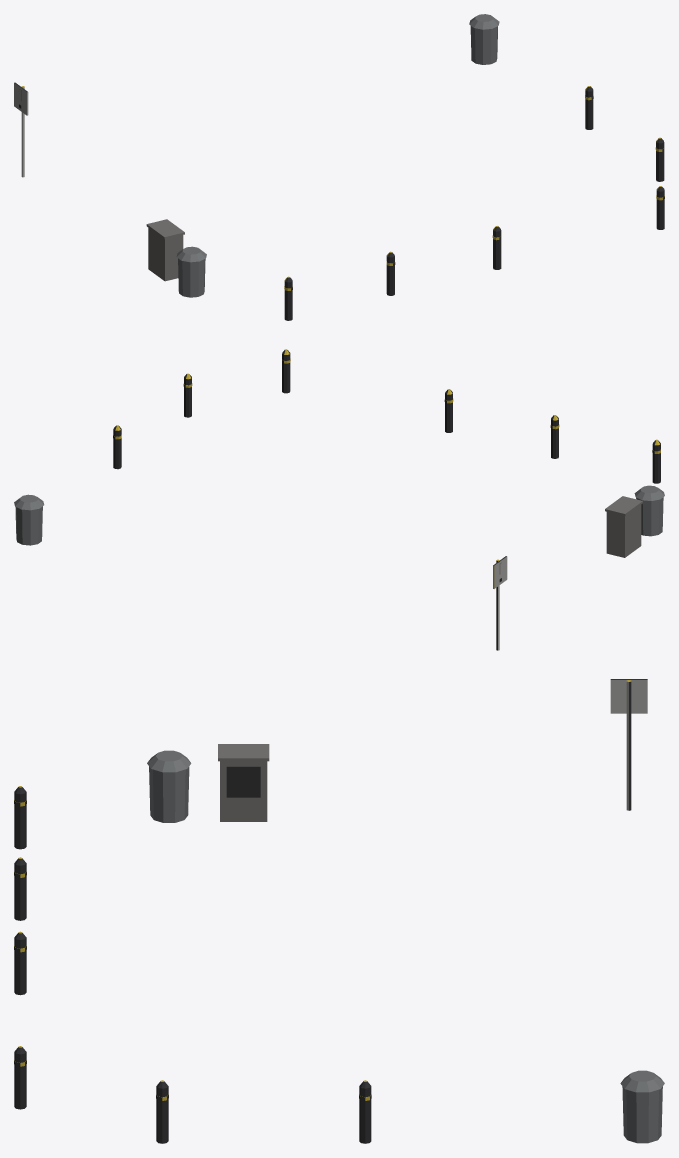
Rendered from armurerie_props_a.glb.
3 renders of one model, top to bottom at view 1: azimuth 30°, elevation 25°; view 2: azimuth 150°, elevation 25°; view 3: azimuth 270°, elevation 25°, orthographic. The views are drawn at different scales.
Parts seen in each view (by area): view 1: armurerie_props_a; view 2: armurerie_props_a; view 3: armurerie_props_a.
Part boxes in pixels (x1,y1,x2,y2): armurerie_props_a: (14, 14, 664, 320); armurerie_props_a: (14, 349, 664, 650); armurerie_props_a: (14, 679, 664, 1143).
Size of the model in its own units: 11.83 by 2.1 by 9.62.
